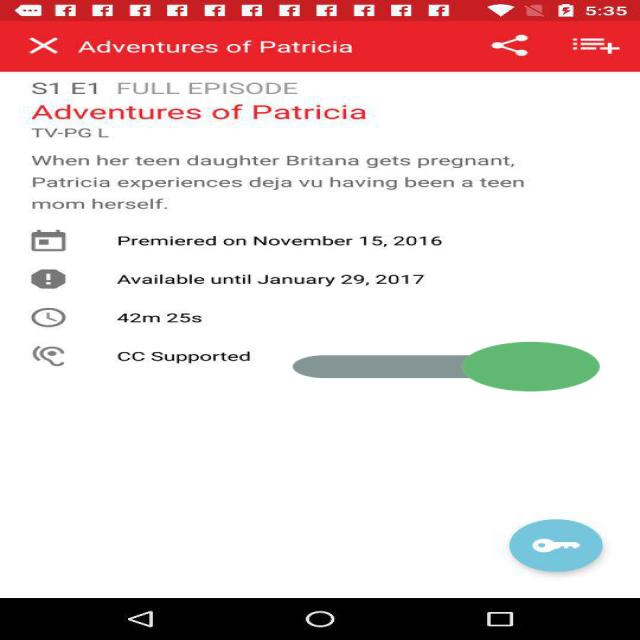social proof: (292, 311, 600, 422)
